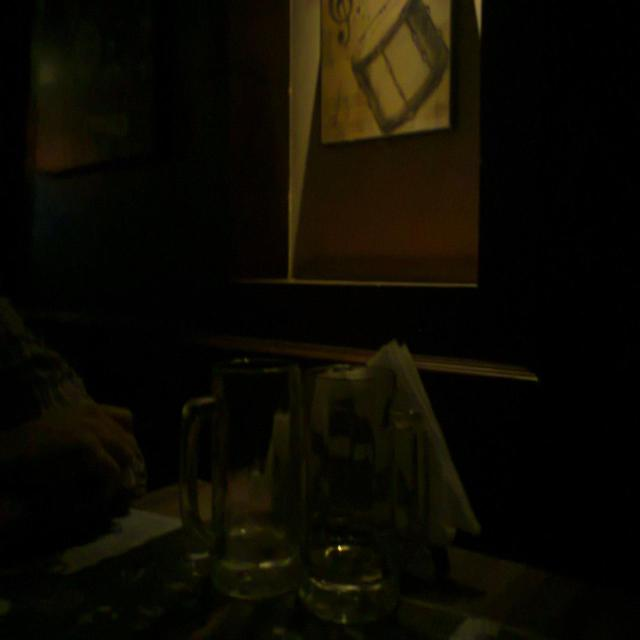Cup: (192, 335, 313, 621), (313, 348, 410, 640)
People: (0, 250, 124, 611)
Table: (0, 387, 640, 640)
